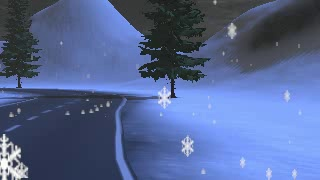Lane: (0, 87, 135, 179)
